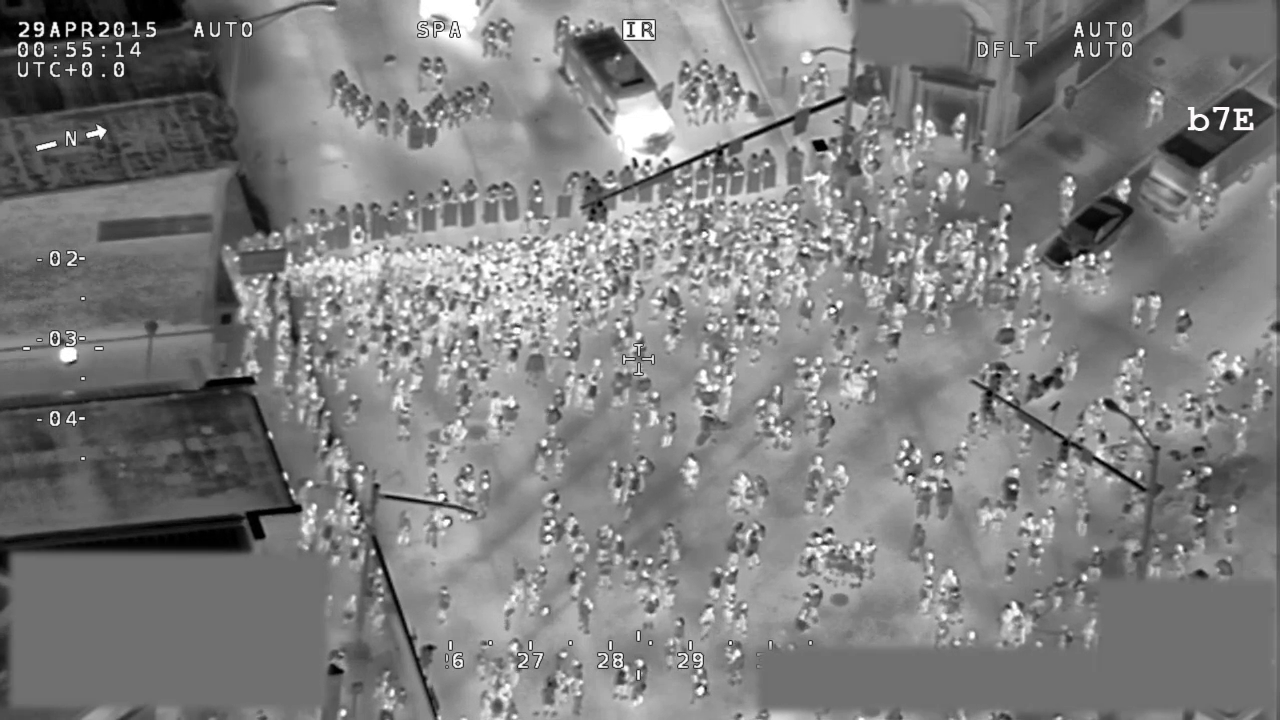vehicle: (1137, 84, 1280, 225), (556, 20, 683, 162), (1038, 193, 1138, 281)
